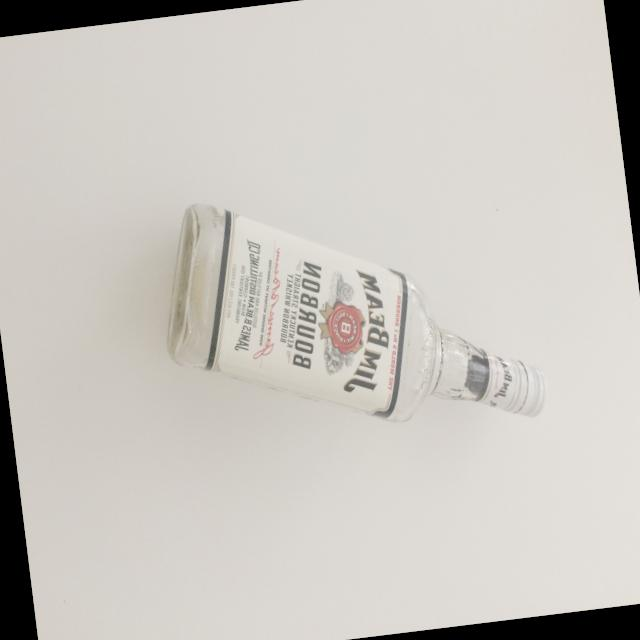Glass: (140, 146, 556, 472)
